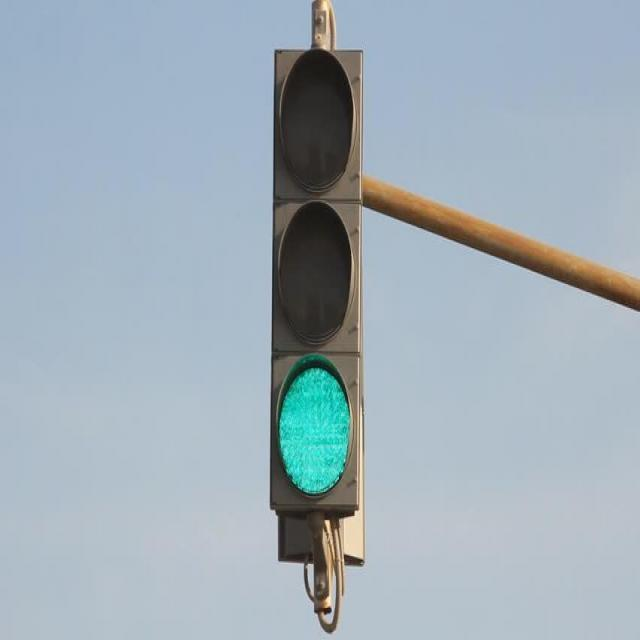green_light: (275, 47, 358, 516)
